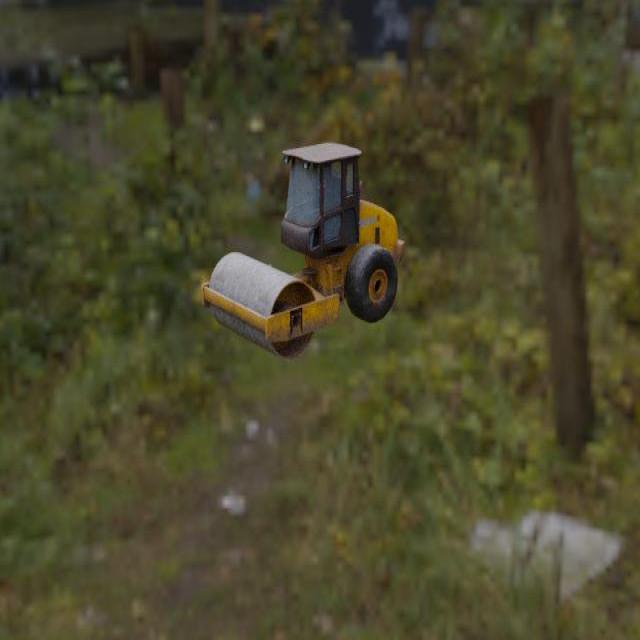Roller: (200, 141, 405, 360)
